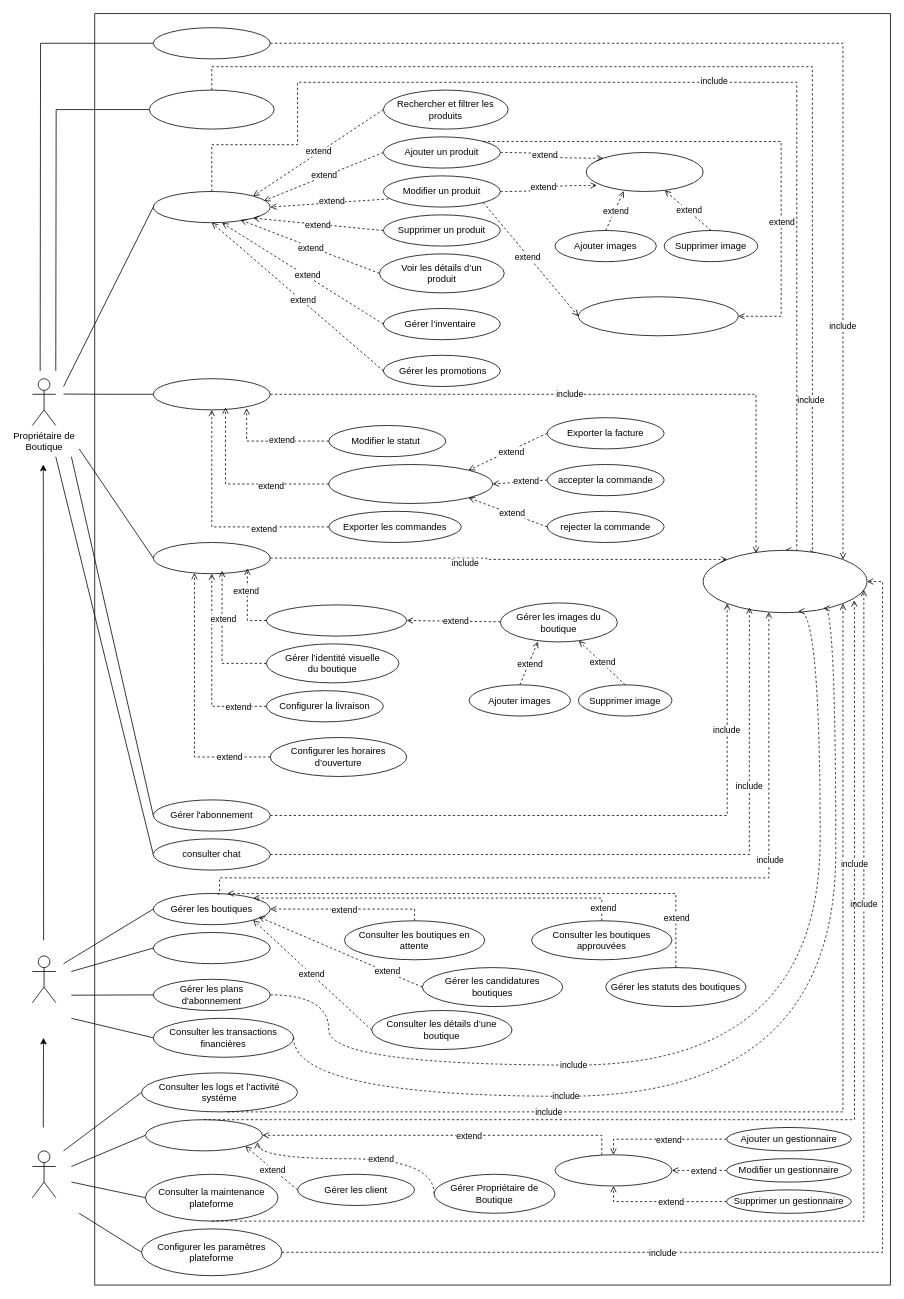
This 904x1299 diagram has some shape labels left out. The shapes that lost their labels are listed below. From the top down, each one's centre as x and y in pixels, then its label:
At [211,43]: "Consulter dashboard".
At [211,109]: "Consulter les statistiques du boutique".
At [644,171]: "Gérer les images du produit".
At [211,207]: "Gérer les produits".
At [658,316]: "Gérer les variantes et attri buts produits".
At [211,394]: "Gérer les commandes".
At [410,483]: "Consulter les détails d’une commande".
At [211,558]: "Gérer la boutique".
At [784,581]: "S'authentifier".
At [336,620]: "Gérer le profil du boutique".
At [211,948]: "consulter les analytics".
At [44,979]: "Gestionnaire boutiques".
At [203,1135]: "Gérer les utilisateurs".
At [44,1174]: "Administrateur".
At [613,1170]: "Gérer les gestionnaires".
